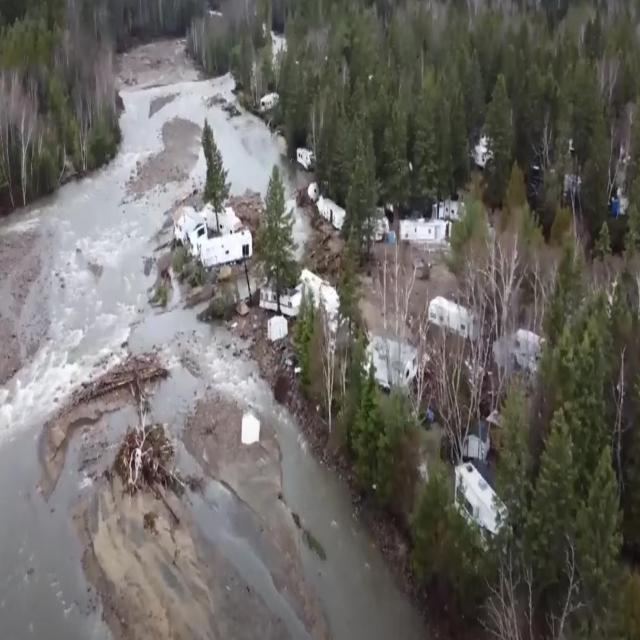flood: (0, 75, 424, 638), (280, 155, 311, 261)
house: (171, 196, 254, 278), (454, 458, 508, 549), (260, 260, 331, 322), (428, 293, 478, 348), (398, 216, 446, 246), (319, 194, 347, 232), (295, 143, 315, 173), (259, 90, 280, 118)
